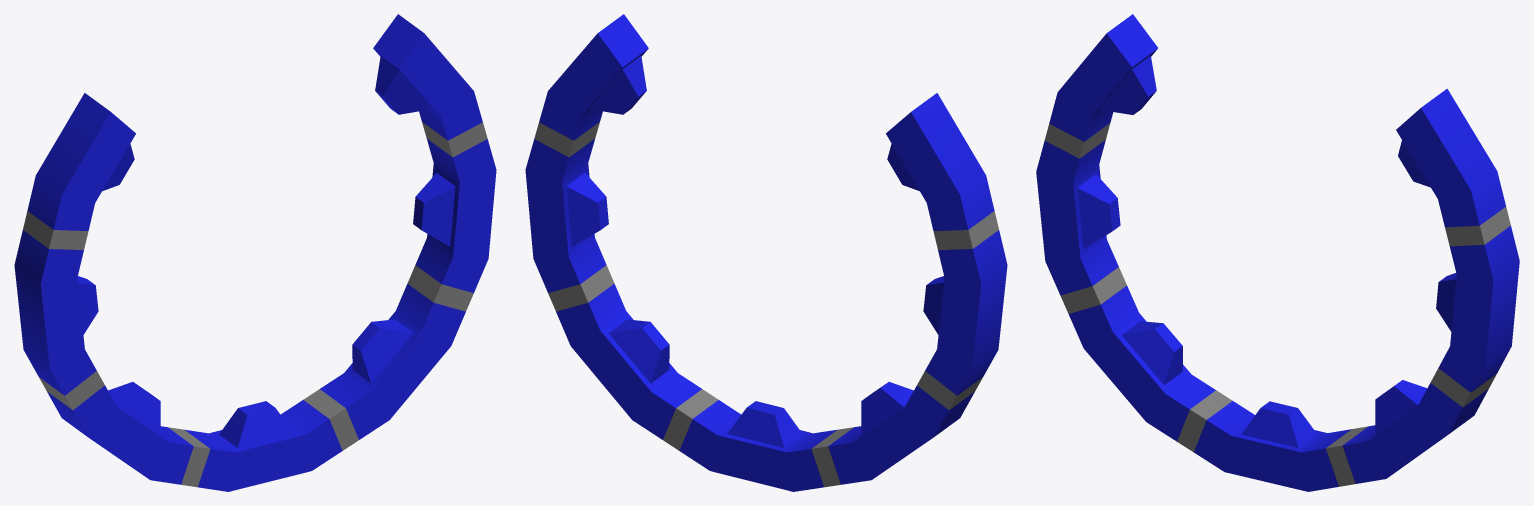
The model's file is AnillosVoladores.FBX.
The picture shows the model from 3 angles, left to right: view 1: azimuth 30°, elevation 25°; view 2: azimuth 150°, elevation 25°; view 3: azimuth 330°, elevation 25°; orthographic projection.
Parts seen in each view (by area): view 1: Anillo; view 2: Anillo; view 3: Anillo.
Part boxes in pixels (x1,y1,x2,y2): Anillo: (14,14,496,491); Anillo: (525,14,1007,491); Anillo: (1036,14,1519,491).
Bounding box in the file's own units: 3749 × 3230 × 374.
